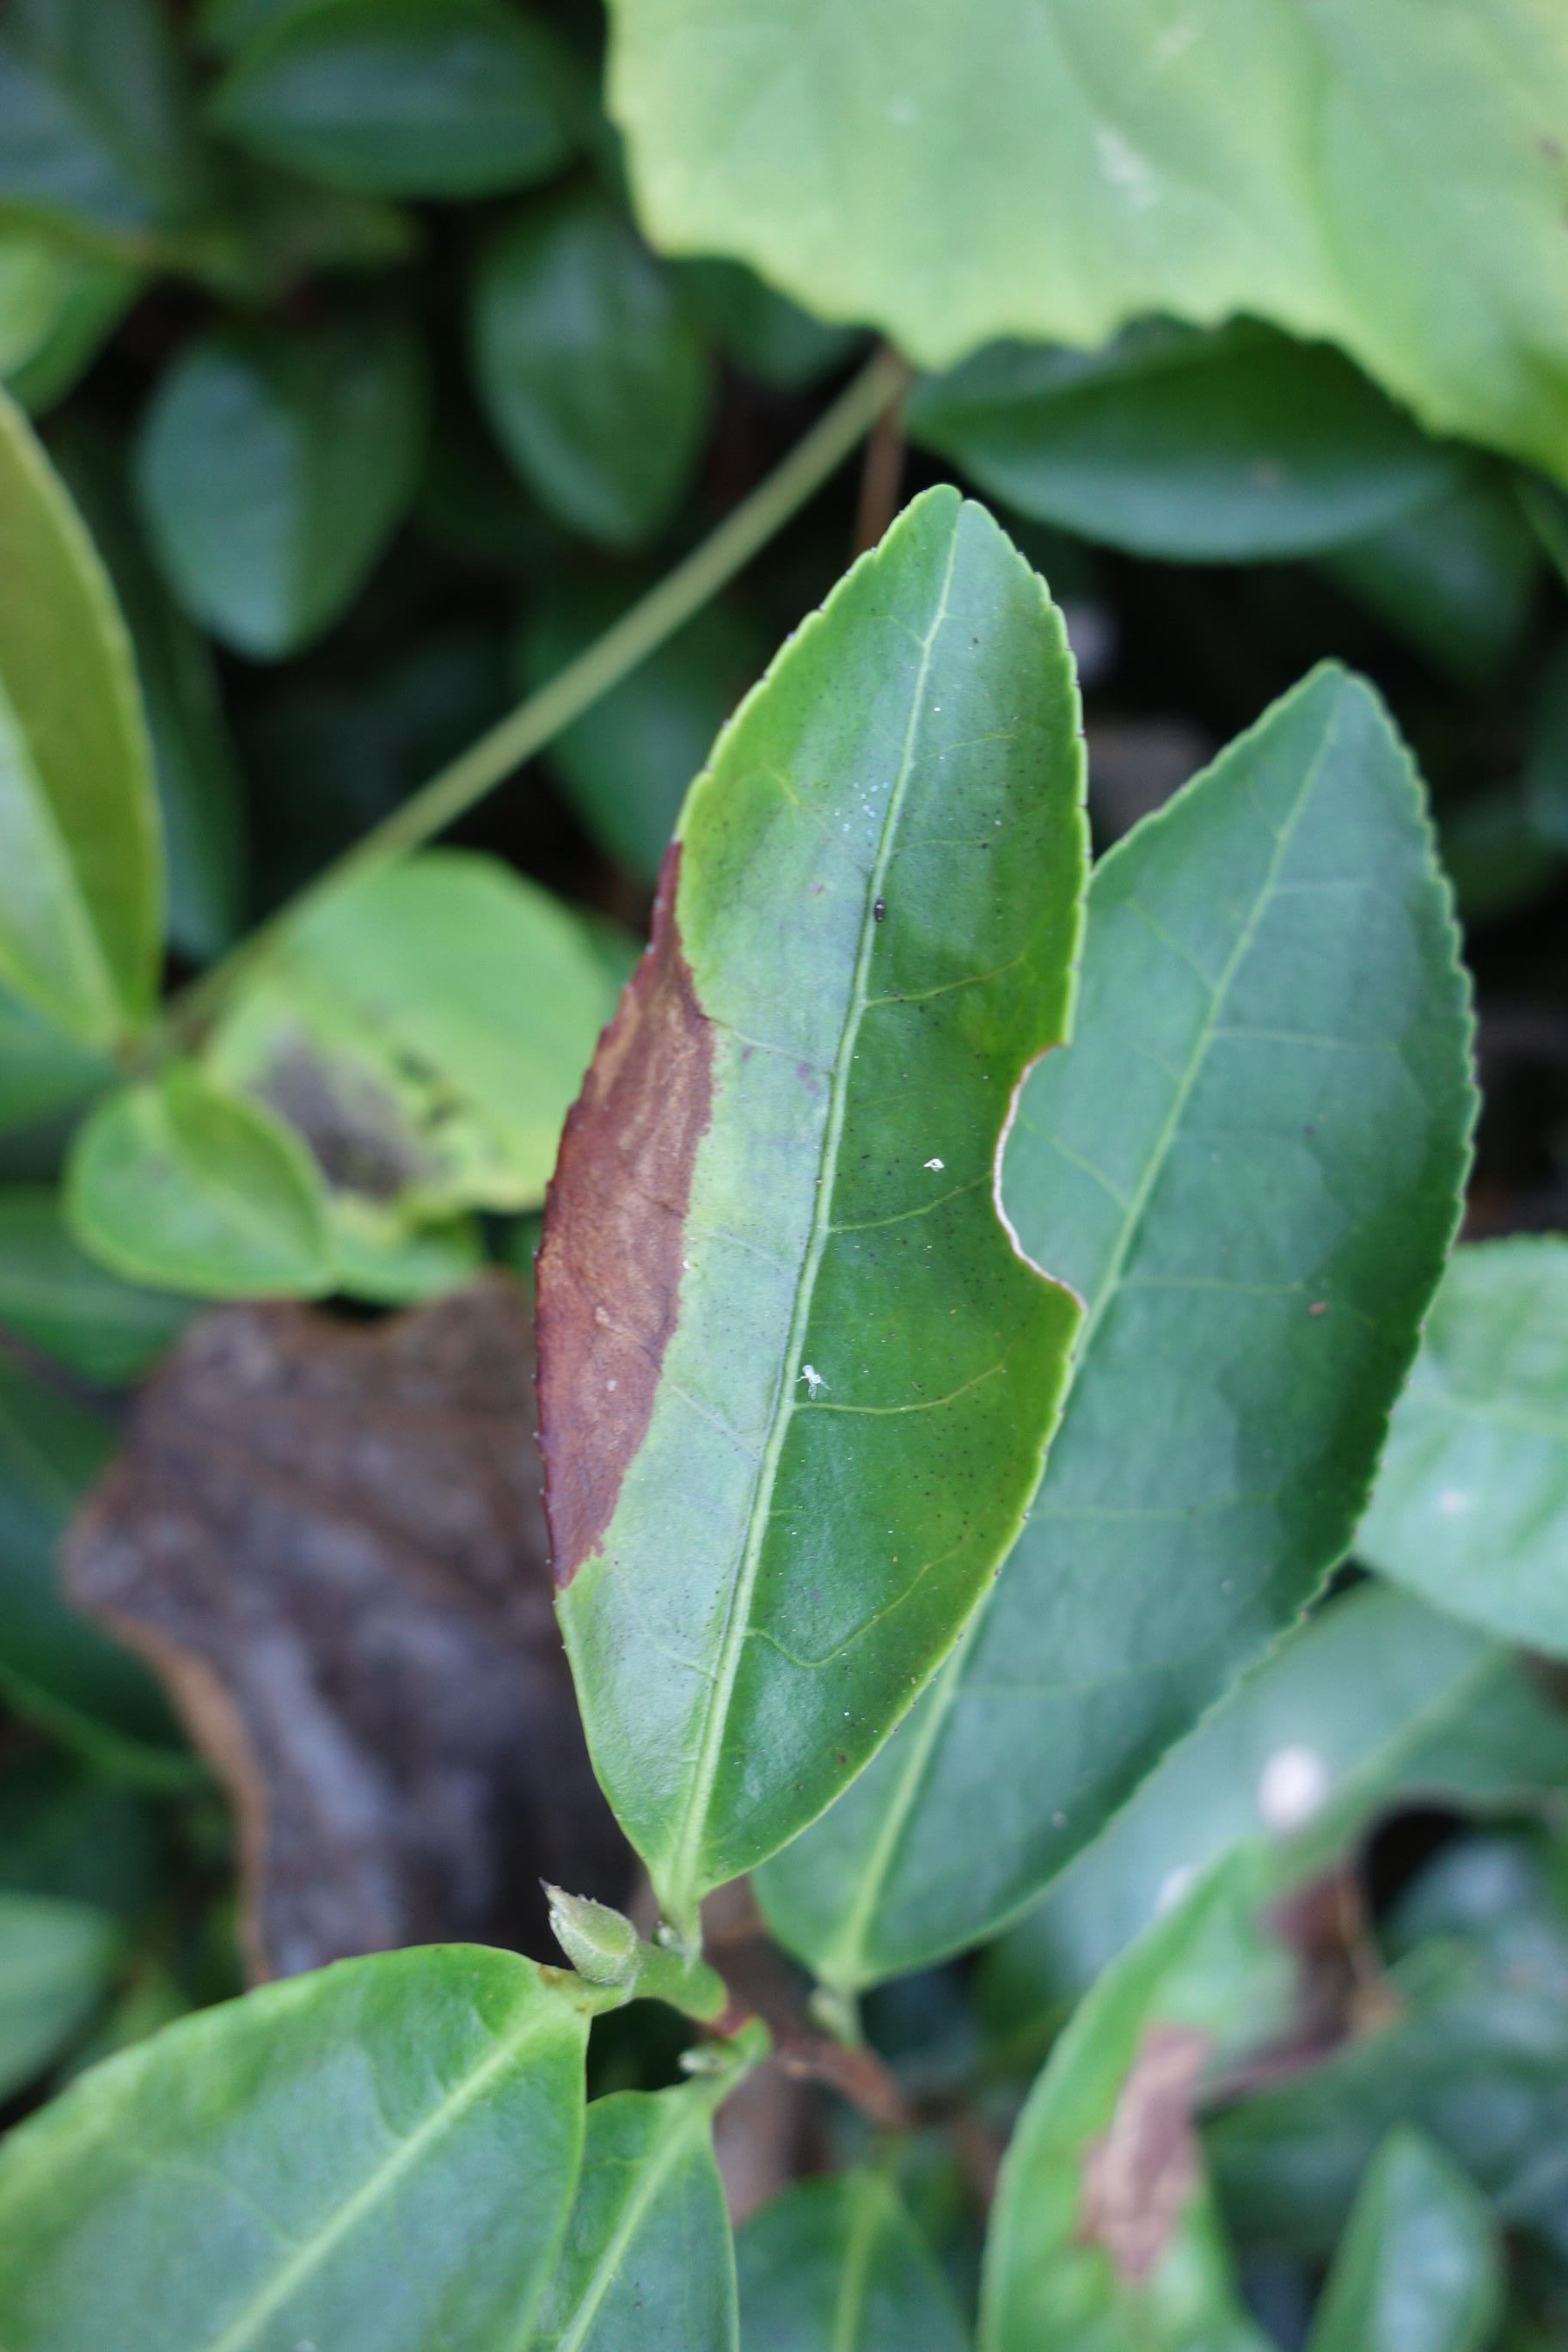tanju_high: (530, 483, 1090, 1918)
